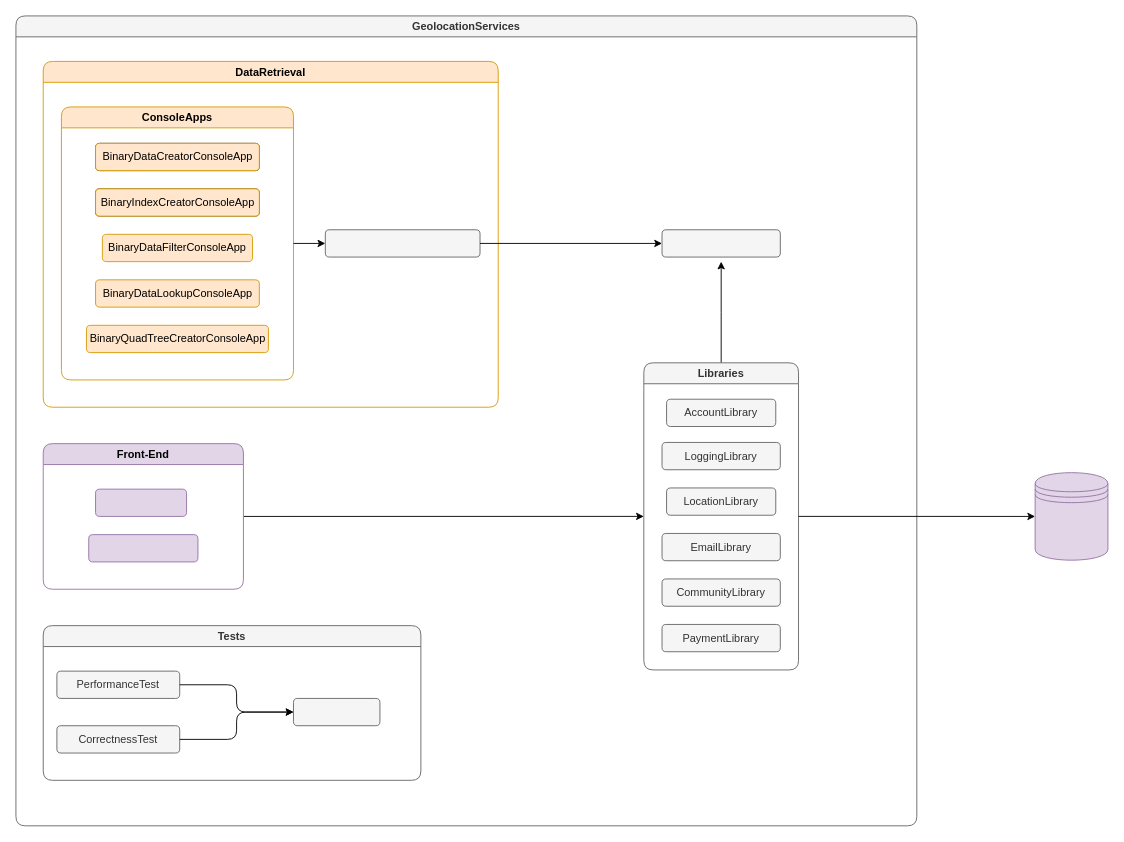
Some shapes in this 1124 by 842 pixel diagram are drawn without their labels. Each missing label, with the centre of its shape:
Admin: the point at 143,548
HelperLibrary: the point at 720,243
Location Data: the point at 1071,516
SharedDataRetrievalLibrary: the point at 402,243
TestBase: the point at 336,712
WebApp: the point at 141,502
